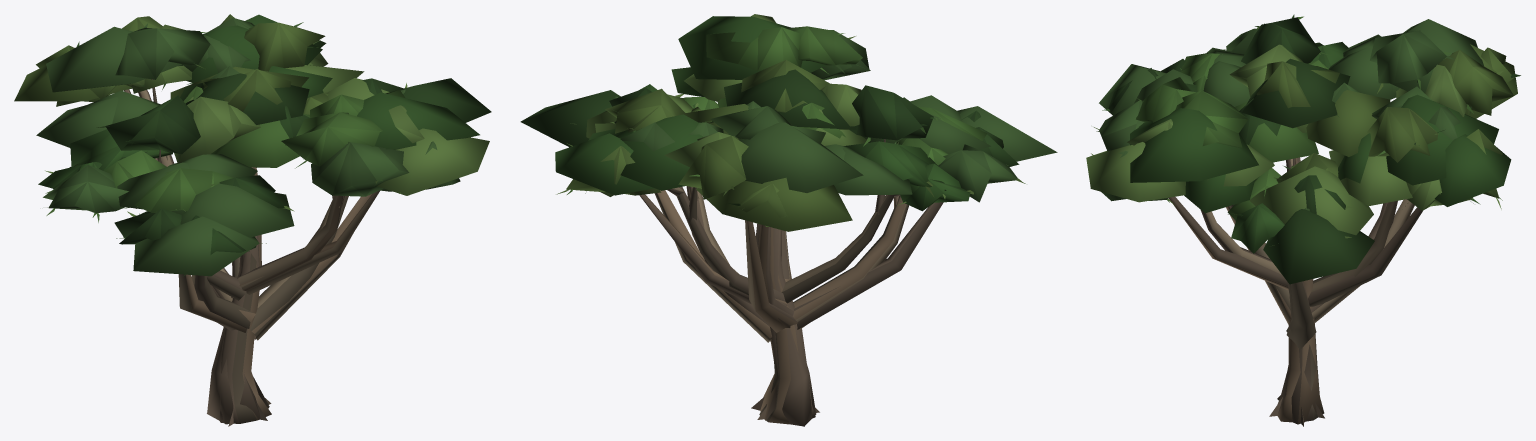
The model's file is sg-rain-tree.glb.
The picture shows the model from 3 angles, left to right: view 1: azimuth 30°, elevation 25°; view 2: azimuth 150°, elevation 25°; view 3: azimuth 270°, elevation 25°; orthographic projection.
Visible parts, largest first — view 1: lod0_crown, lod1_crown, lod0_limbs, lod1_limbs, lod0_trunk, lod1_trunk; view 2: lod1_crown, lod0_crown, lod0_limbs, lod1_limbs, lod1_trunk, lod0_trunk; view 3: lod1_crown, lod0_crown, lod1_limbs, lod0_limbs, lod0_trunk, lod1_trunk.
Boxes of the visible parts, <box> form: lod0_crown: <box>36,14,460,276</box>; lod1_crown: <box>14,14,491,276</box>; lod0_limbs: <box>135,79,348,339</box>; lod1_limbs: <box>124,89,379,340</box>; lod0_trunk: <box>219,167,271,426</box>; lod1_trunk: <box>207,167,269,424</box>; lod1_crown: <box>520,16,1057,231</box>; lod0_crown: <box>556,14,1025,226</box>; lod0_limbs: <box>667,139,908,341</box>; lod1_limbs: <box>639,190,943,342</box>; lod1_trunk: <box>760,228,816,426</box>; lod0_trunk: <box>751,227,819,426</box>; lod1_crown: <box>1086,19,1517,284</box>; lod0_crown: <box>1091,14,1520,253</box>; lod1_limbs: <box>1168,196,1422,349</box>; lod0_limbs: <box>1200,159,1397,342</box>; lod0_trunk: <box>1269,157,1324,426</box>; lod1_trunk: <box>1278,158,1321,424</box>.
Size of the model in its own units: 19.27 by 14 by 15.33.
